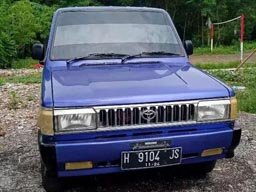plat: (119, 147, 180, 162)
